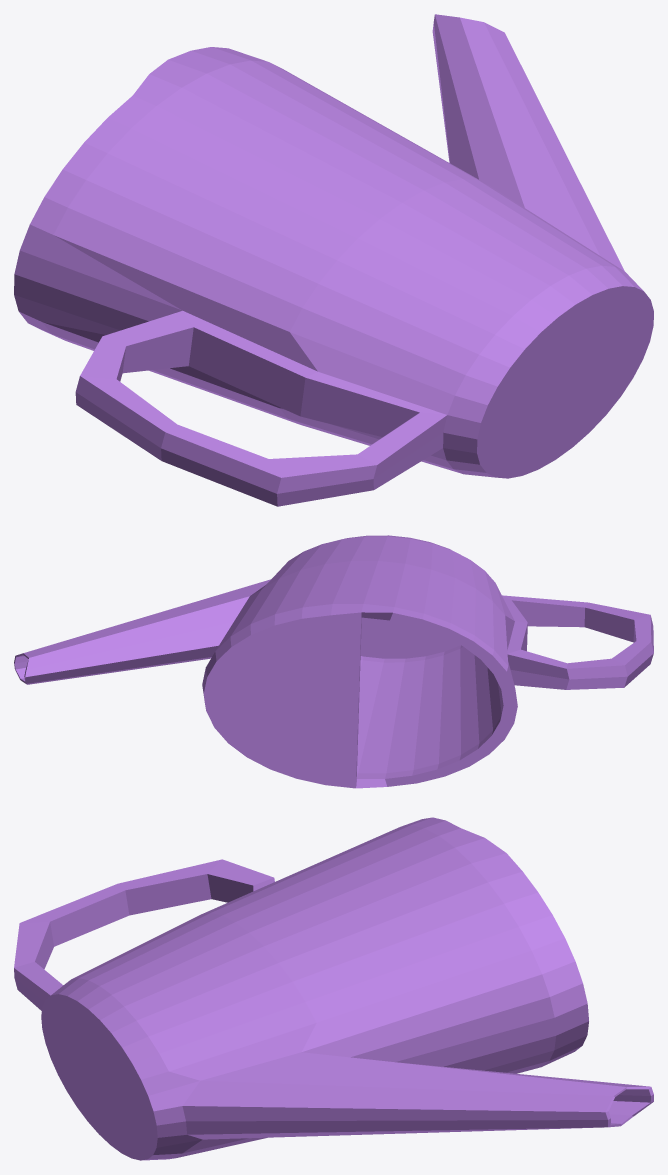
The model's file is water.gltf.
3 views of the same model, one above another, from view 1: azimuth 30°, elevation 25°; view 2: azimuth 150°, elevation 25°; view 3: azimuth 270°, elevation 25° (orthographic). The views are drawn at different scales.
Visible parts, largest first — view 1: Circle; view 2: Circle; view 3: Circle.
Part boxes in pixels (x1,y1,x2,y2): Circle: (14, 14, 653, 506); Circle: (14, 535, 653, 788); Circle: (14, 817, 653, 1160).
Size of the model in its own units: 1.46 by 0.5831 by 1.45.
